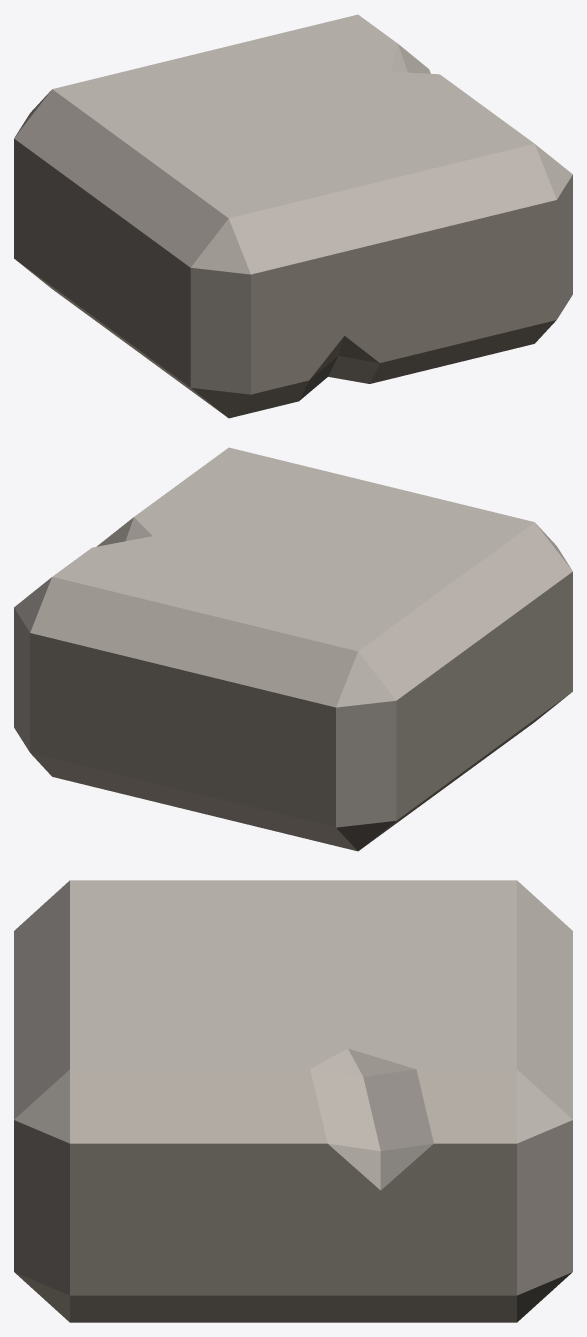
The model's file is m_kub_stone_flatMini.FBX.
The picture shows the model from 3 angles, top to bottom: view 1: azimuth 30°, elevation 25°; view 2: azimuth 150°, elevation 25°; view 3: azimuth 270°, elevation 25°; orthographic projection. The views are drawn at different scales.
Visible parts, largest first — view 1: m_kub_stone_flatMini; view 2: m_kub_stone_flatMini; view 3: m_kub_stone_flatMini.
Part boxes in pixels (x1,y1,x2,y2): m_kub_stone_flatMini: (14,14,572,418); m_kub_stone_flatMini: (14,447,572,851); m_kub_stone_flatMini: (14,880,572,1322).
Bounding box in the file's own units: 1 × 0.5 × 1.
